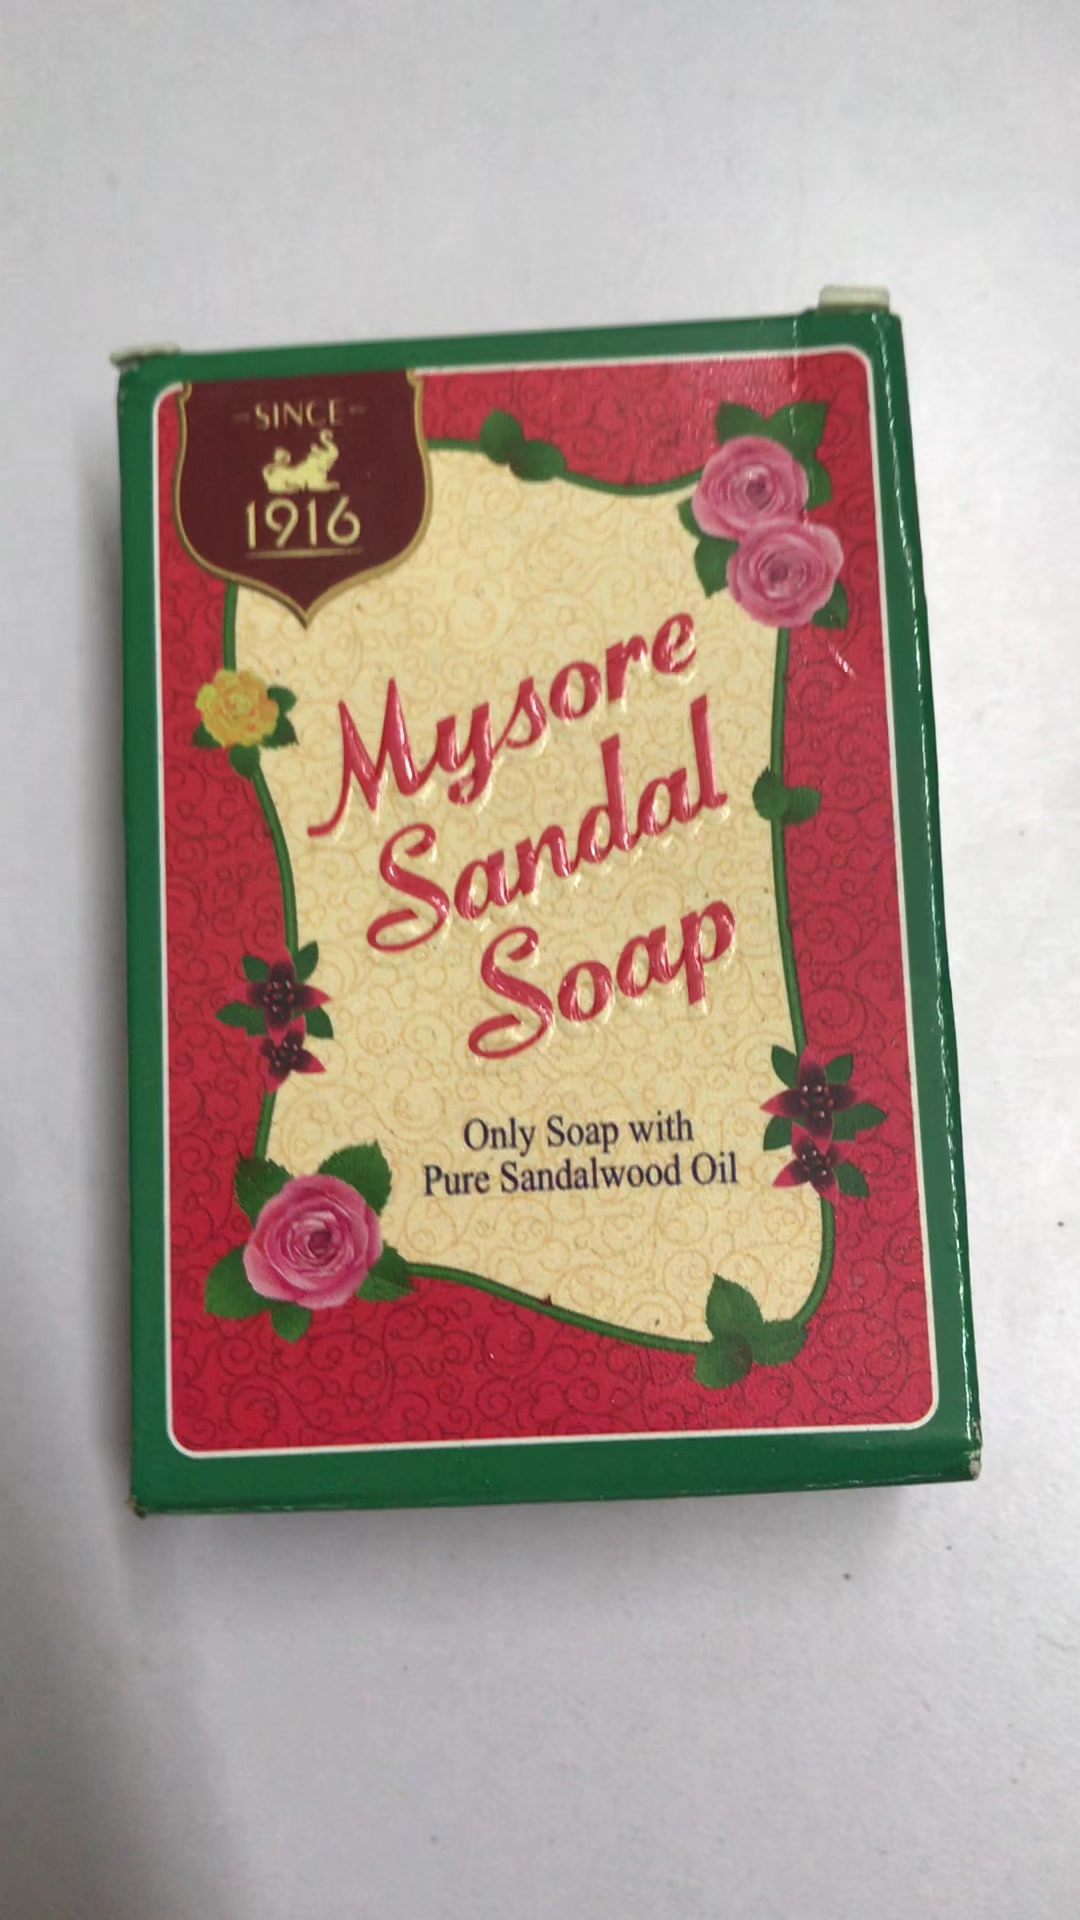mysore sandal soap: (124, 302, 976, 1515)
